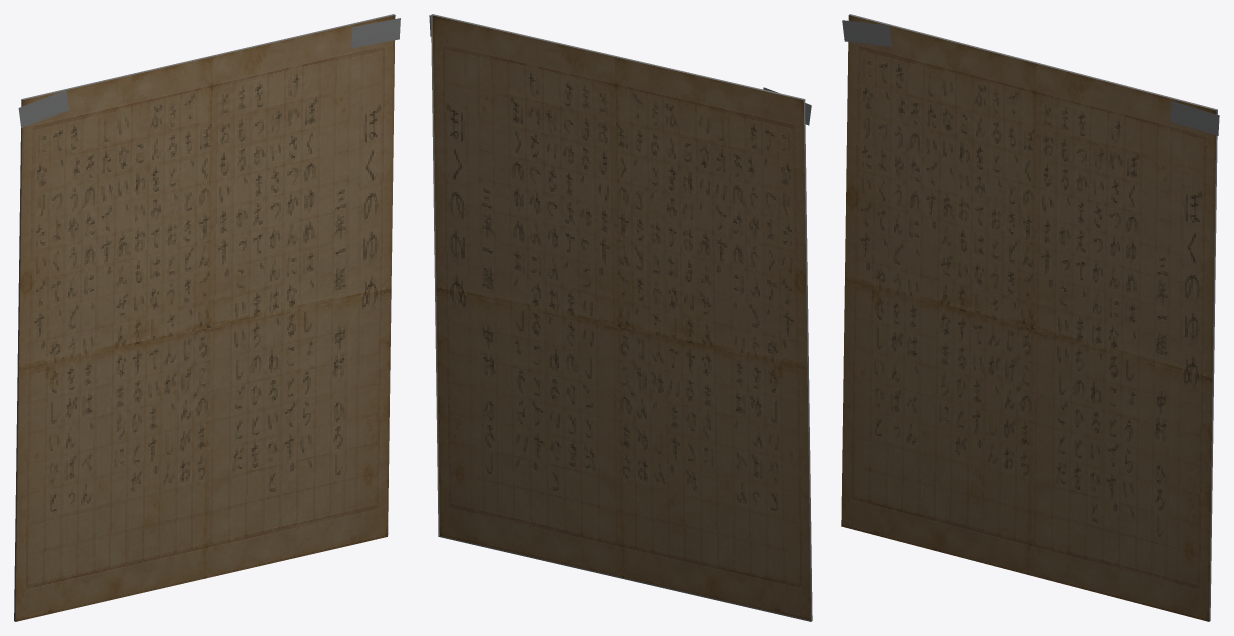
File: prop_poster-sakubun-2.glb
3 views of the same model, side by side, from view 1: azimuth 30°, elevation 25°; view 2: azimuth 150°, elevation 25°; view 3: azimuth 330°, elevation 25° (orthographic).
Visible parts, largest first — view 1: prop_poster-sakubun-2; view 2: prop_poster-sakubun-2; view 3: prop_poster-sakubun-2.
Boxes of the visible parts, x1,y1,x2,y2 form: prop_poster-sakubun-2: [14, 14, 400, 621]; prop_poster-sakubun-2: [429, 14, 812, 621]; prop_poster-sakubun-2: [841, 14, 1219, 621].
Size of the model in its own units: 0.4751 by 0.622 by 0.0055.
Materials: 2 (2 with a texture image).
